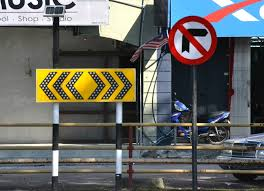No_right_turn: (168, 16, 217, 65)
